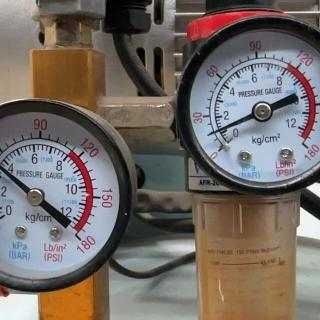gauge: (174, 6, 320, 198), (0, 96, 136, 300), (217, 134, 237, 159), (251, 100, 273, 122), (26, 187, 45, 207), (297, 136, 315, 156), (70, 228, 88, 248), (205, 130, 215, 138)
